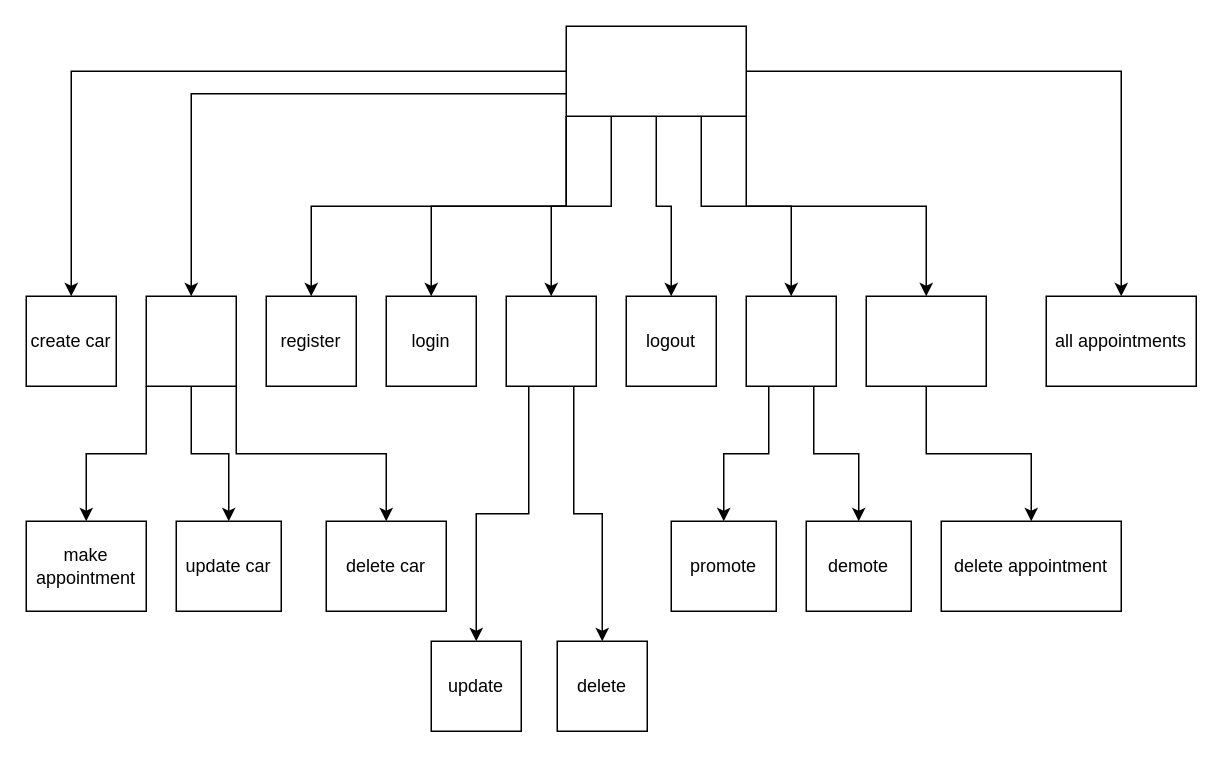
The diagram is 1223 pixels wide and 758 high, and some of its shapes have lost their labels. The centre of each missing label's shape, as x and y in pixels:
car list: pixel 190 340
home: pixel 655 70
my appointments: pixel 925 340
read gegevens: pixel 550 340
user list: pixel 790 340
